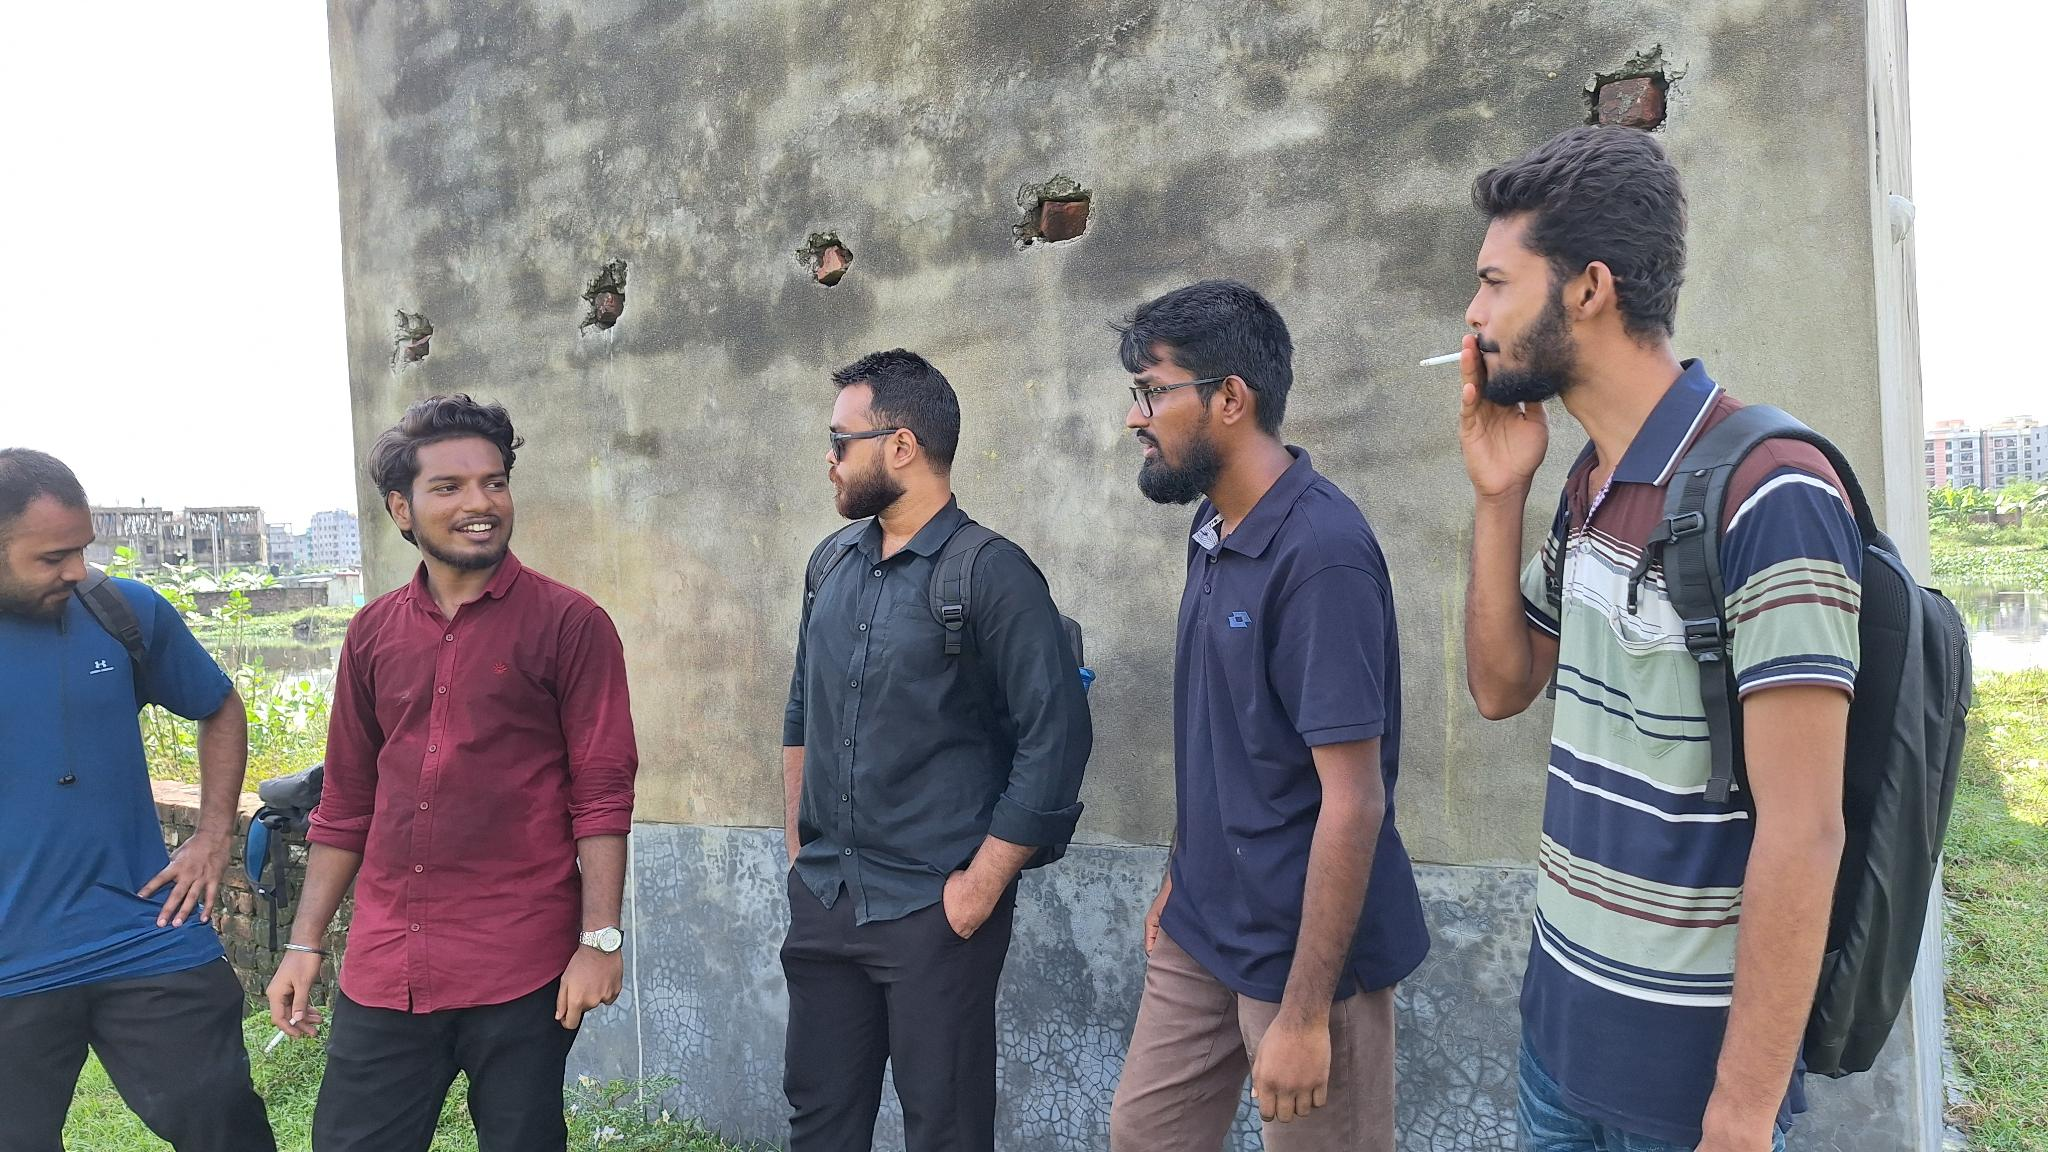cigarette: (263, 1017, 300, 1055), (1418, 350, 1463, 369)
nonSmoker: (1113, 281, 1428, 1152), (778, 350, 1097, 1152), (0, 449, 277, 1152)
smoker: (1456, 128, 1973, 1152), (266, 397, 640, 1152)
